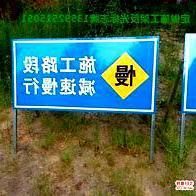sign: (14, 38, 155, 112)
